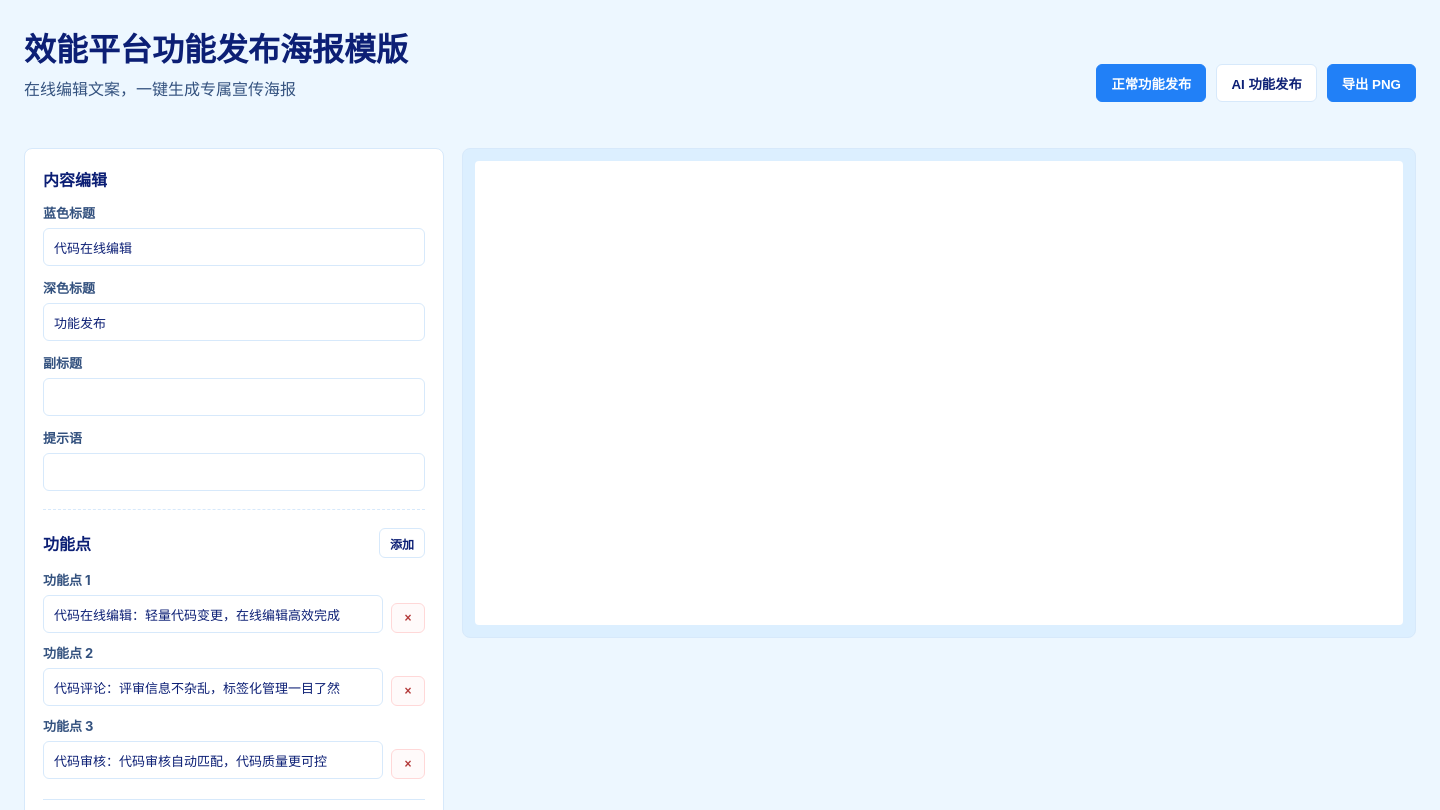
Scenario: 绘制失败要看得见 › renderPoster 抛错时给出提示，而不是停在一张不更新的画布上
Click the button "AI 功能发布": (1267, 83) [1216, 64, 1317, 102]
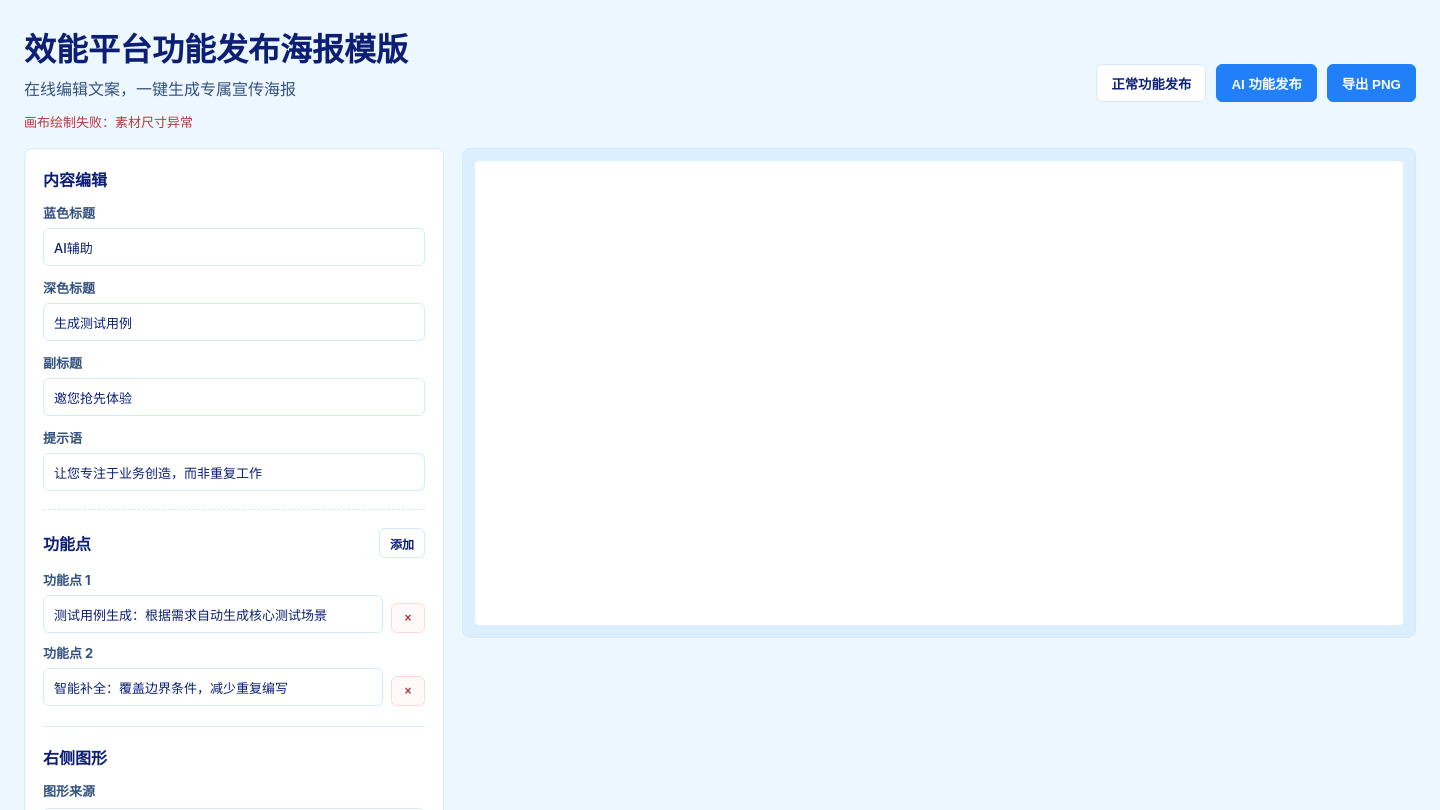
Now the message reads "画布绘制失败：素材尺寸异常", box [24, 114, 193, 130]
